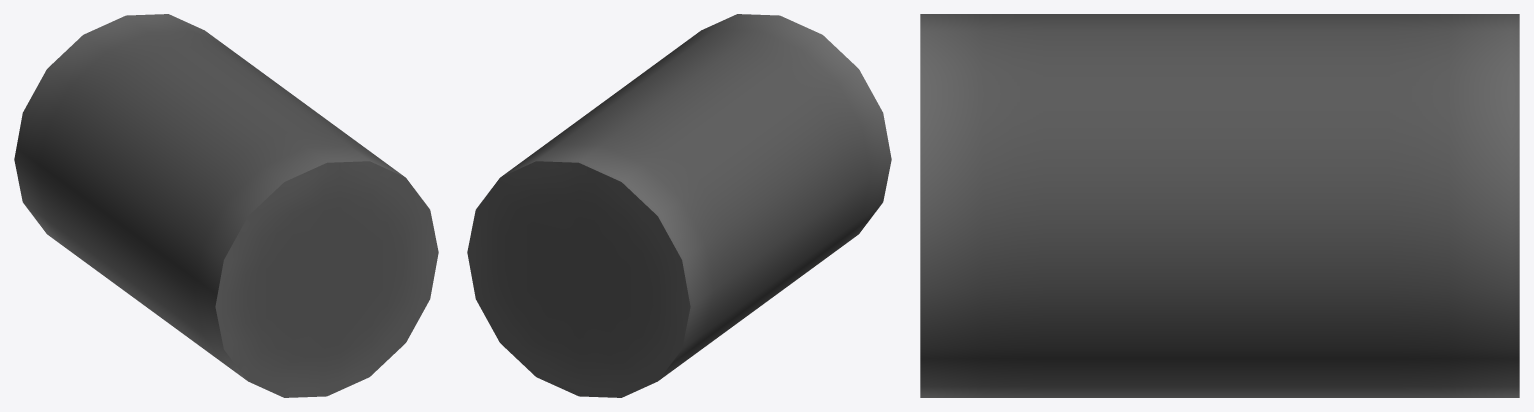
The model's file is Tantares_SolarStandard_1_Base.obj.
3 renders of one model, left to right at view 1: azimuth 30°, elevation 25°; view 2: azimuth 150°, elevation 25°; view 3: azimuth 270°, elevation 25°, orthographic. The views are drawn at different scales.
Visible parts, largest first — view 1: Tantares_SolarStandard_1_Base; view 2: Tantares_SolarStandard_1_Base; view 3: Tantares_SolarStandard_1_Base.
Part boxes in pixels (x1,y1,x2,y2): Tantares_SolarStandard_1_Base: (14,14,438,397); Tantares_SolarStandard_1_Base: (467,14,891,397); Tantares_SolarStandard_1_Base: (920,14,1519,397).
Size of the model in its own units: 0.0625 by 0.0625 by 0.0975.
